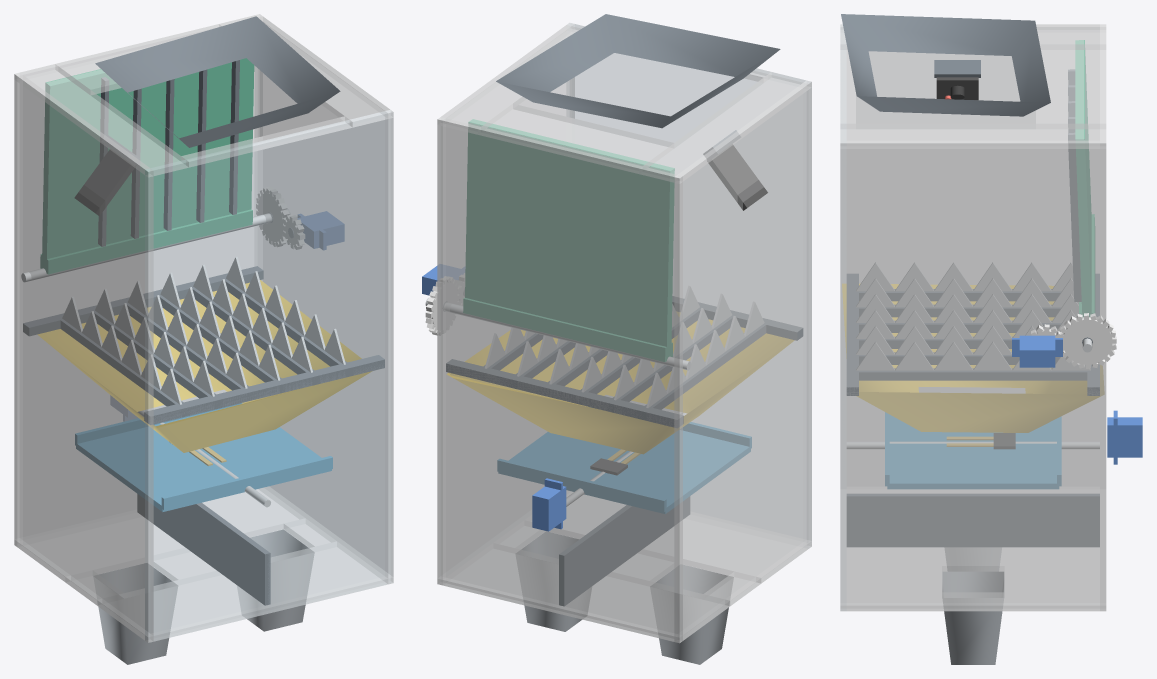
The model's file is bag_splitter.glb.
The picture shows the model from 3 angles, left to right: view 1: azimuth 30°, elevation 25°; view 2: azimuth 150°, elevation 25°; view 3: azimuth 270°, elevation 25°; orthographic projection.
Parts seen in each view (by area): view 1: Housing_180_x_170_x_330_, Press_plate_hinged_jaw_, Blade_bed_6_saw_rows_enclosed_, Sorting_flap_existing_SG90_, Collection_funnel, Outlet_to_WET_bin, Drop_slot_from_top_of_station_, SG90_press_servo_2_1_gears, ESP32_CAM_sees_closed_bag_; view 2: Housing_180_x_170_x_330_, Press_plate_hinged_jaw_, Blade_bed_6_saw_rows_enclosed_, Sorting_flap_existing_SG90_, Drop_slot_from_top_of_station_, Collection_funnel, Outlet_to_WET_bin, ESP32_CAM_sees_closed_bag_, SG90_press_servo_2_1_gears; view 3: Housing_180_x_170_x_330_, Blade_bed_6_saw_rows_enclosed_, Sorting_flap_existing_SG90_, Drop_slot_from_top_of_station_, Collection_funnel, Outlet_to_WET_bin, Press_plate_hinged_jaw_, SG90_press_servo_2_1_gears, ESP32_CAM_sees_closed_bag_.
Boxes of the visible parts, x1,y1,x2,y2 form: Housing_180_x_170_x_330_: (14, 14, 393, 642); Press_plate_hinged_jaw_: (21, 58, 290, 282); Blade_bed_6_saw_rows_enclosed_: (23, 257, 384, 424); Sorting_flap_existing_SG90_: (75, 396, 332, 511); Collection_funnel: (38, 280, 371, 452); Outlet_to_WET_bin: (94, 529, 314, 664); Drop_slot_from_top_of_station_: (95, 16, 340, 147); SG90_press_servo_2_1_gears: (256, 187, 344, 249); ESP32_CAM_sees_closed_bag_: (74, 134, 139, 216); Housing_180_x_170_x_330_: (437, 22, 811, 643); Press_plate_hinged_jaw_: (425, 119, 691, 370); Blade_bed_6_saw_rows_enclosed_: (446, 286, 803, 427); Sorting_flap_existing_SG90_: (497, 413, 751, 531); Drop_slot_from_top_of_station_: (496, 14, 780, 128); Collection_funnel: (447, 312, 794, 453); Outlet_to_WET_bin: (516, 531, 733, 664); ESP32_CAM_sees_closed_bag_: (703, 130, 767, 210); SG90_press_servo_2_1_gears: (422, 264, 464, 335); Housing_180_x_170_x_330_: (840, 24, 1106, 611); Blade_bed_6_saw_rows_enclosed_: (846, 262, 1099, 395); Sorting_flap_existing_SG90_: (847, 410, 1142, 488); Drop_slot_from_top_of_station_: (841, 14, 1050, 116); Collection_funnel: (842, 284, 1104, 432); Outlet_to_WET_bin: (942, 548, 1003, 664); Press_plate_hinged_jaw_: (1068, 40, 1094, 352); SG90_press_servo_2_1_gears: (1012, 313, 1116, 368); ESP32_CAM_sees_closed_bag_: (934, 60, 980, 100).
Size of the model in its own units: 213 by 398 by 193.
